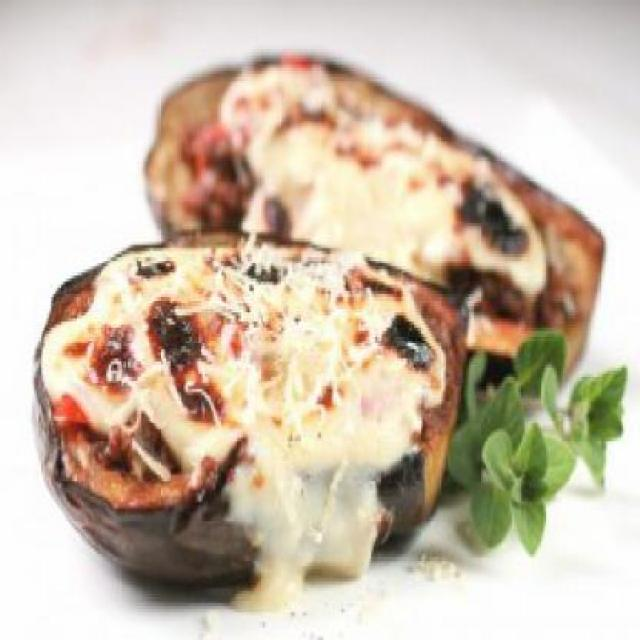eggplant: (30, 40, 615, 625)
hummus: (68, 80, 544, 588)
